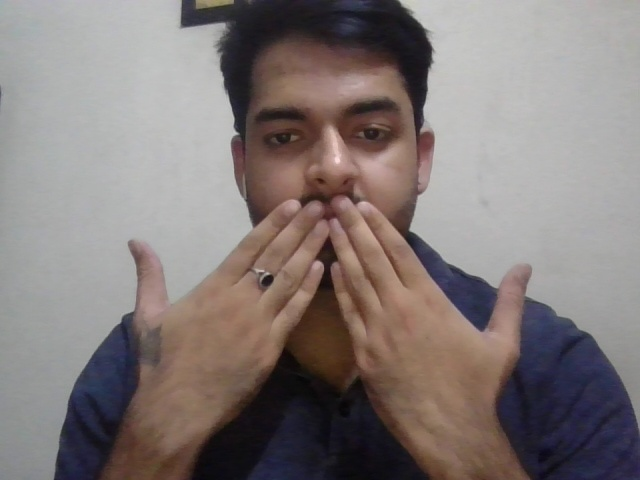thanks: (126, 192, 534, 442)
